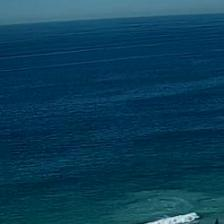surfer: (215, 219, 220, 223)
